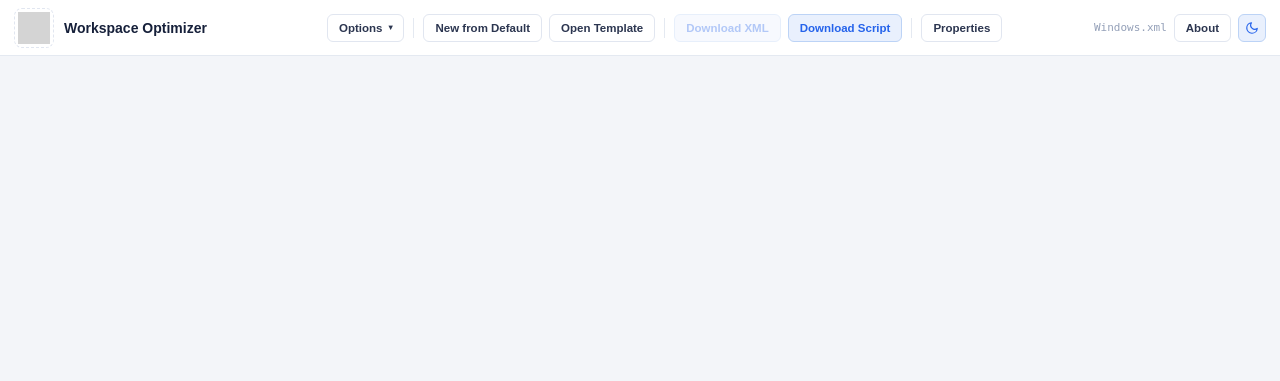
Test: feature flags › hides the .reg entry when disabled
Click the button with class "om-trigger".
click(366, 28)  # box [327,14,404,42]
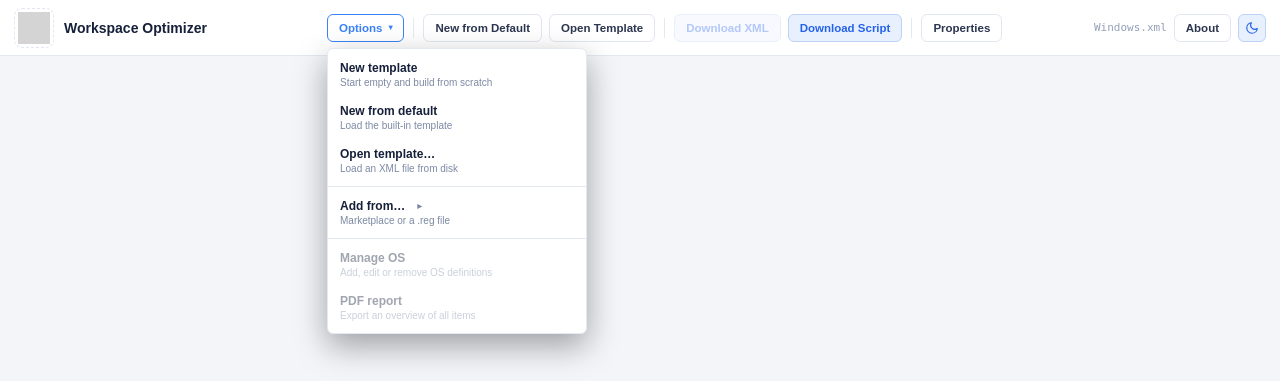
Hover over the element with class "om-sub-wrap".
mouse_move(457, 212)  # box [328,190,586,234]
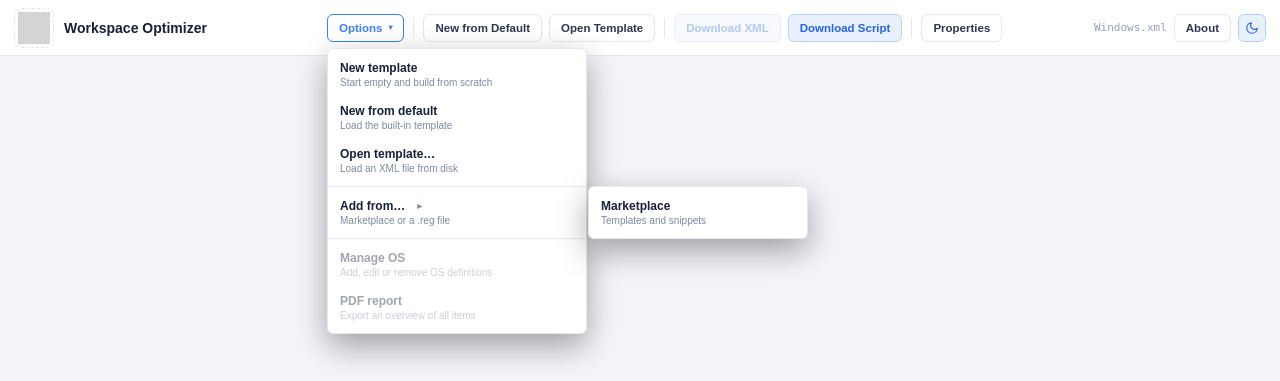
expect the button with class "om-item" shows "Marketplace": met, box [589,190,807,234]
